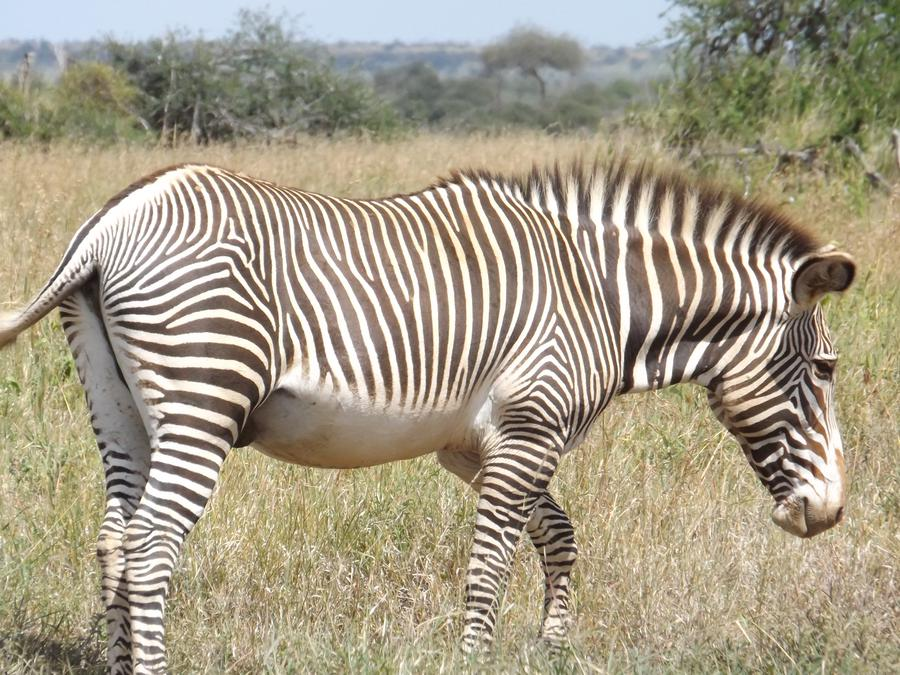zebra_grevys: (81, 166, 569, 440)
